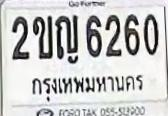0: (143, 13, 158, 54)
2: (11, 16, 29, 60), (104, 14, 122, 56)
6: (85, 14, 101, 57), (124, 13, 139, 55)
A02: (32, 15, 52, 58)
A13: (54, 14, 78, 58)
BKK: (28, 73, 146, 103)
